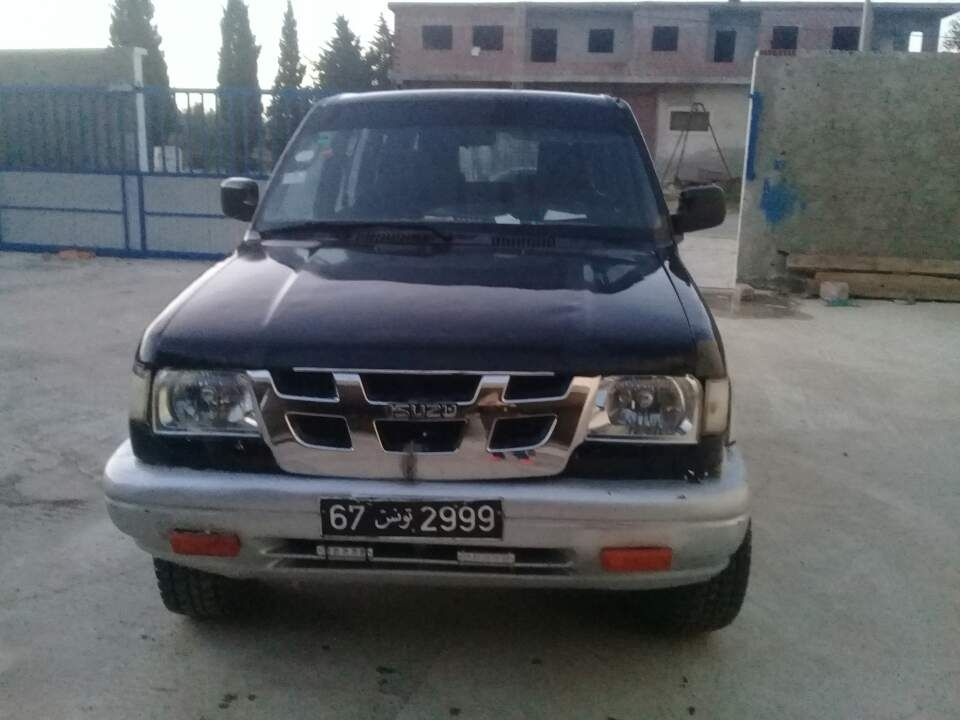LP: (317, 497, 506, 539)
